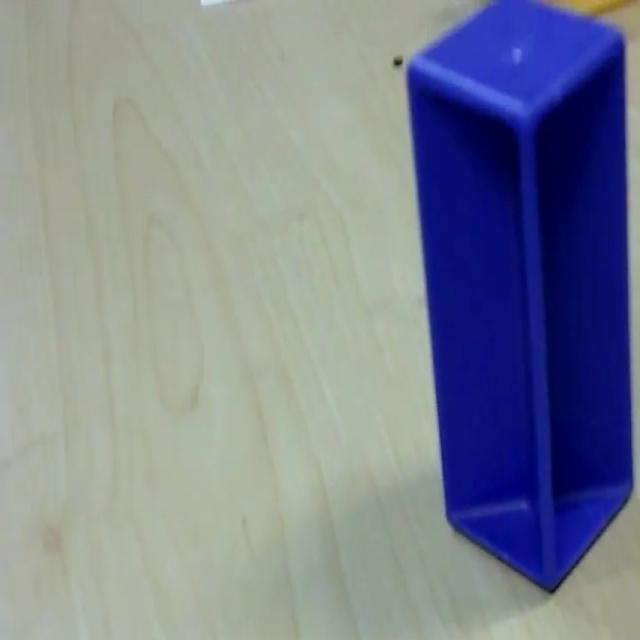blue_block: (403, 0, 634, 593)
